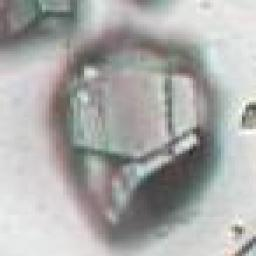crystals: (43, 34, 224, 244)
